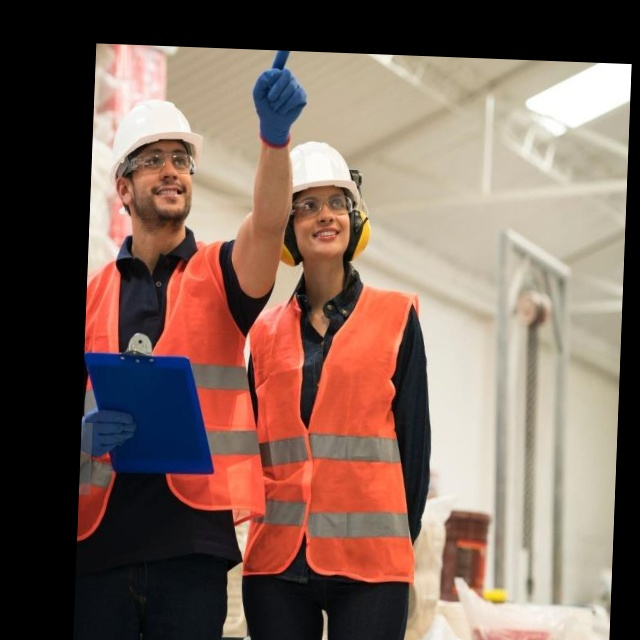Con_Casco: (111, 96, 208, 230)
Con_Chaleco: (77, 235, 270, 541), (244, 280, 426, 576)
